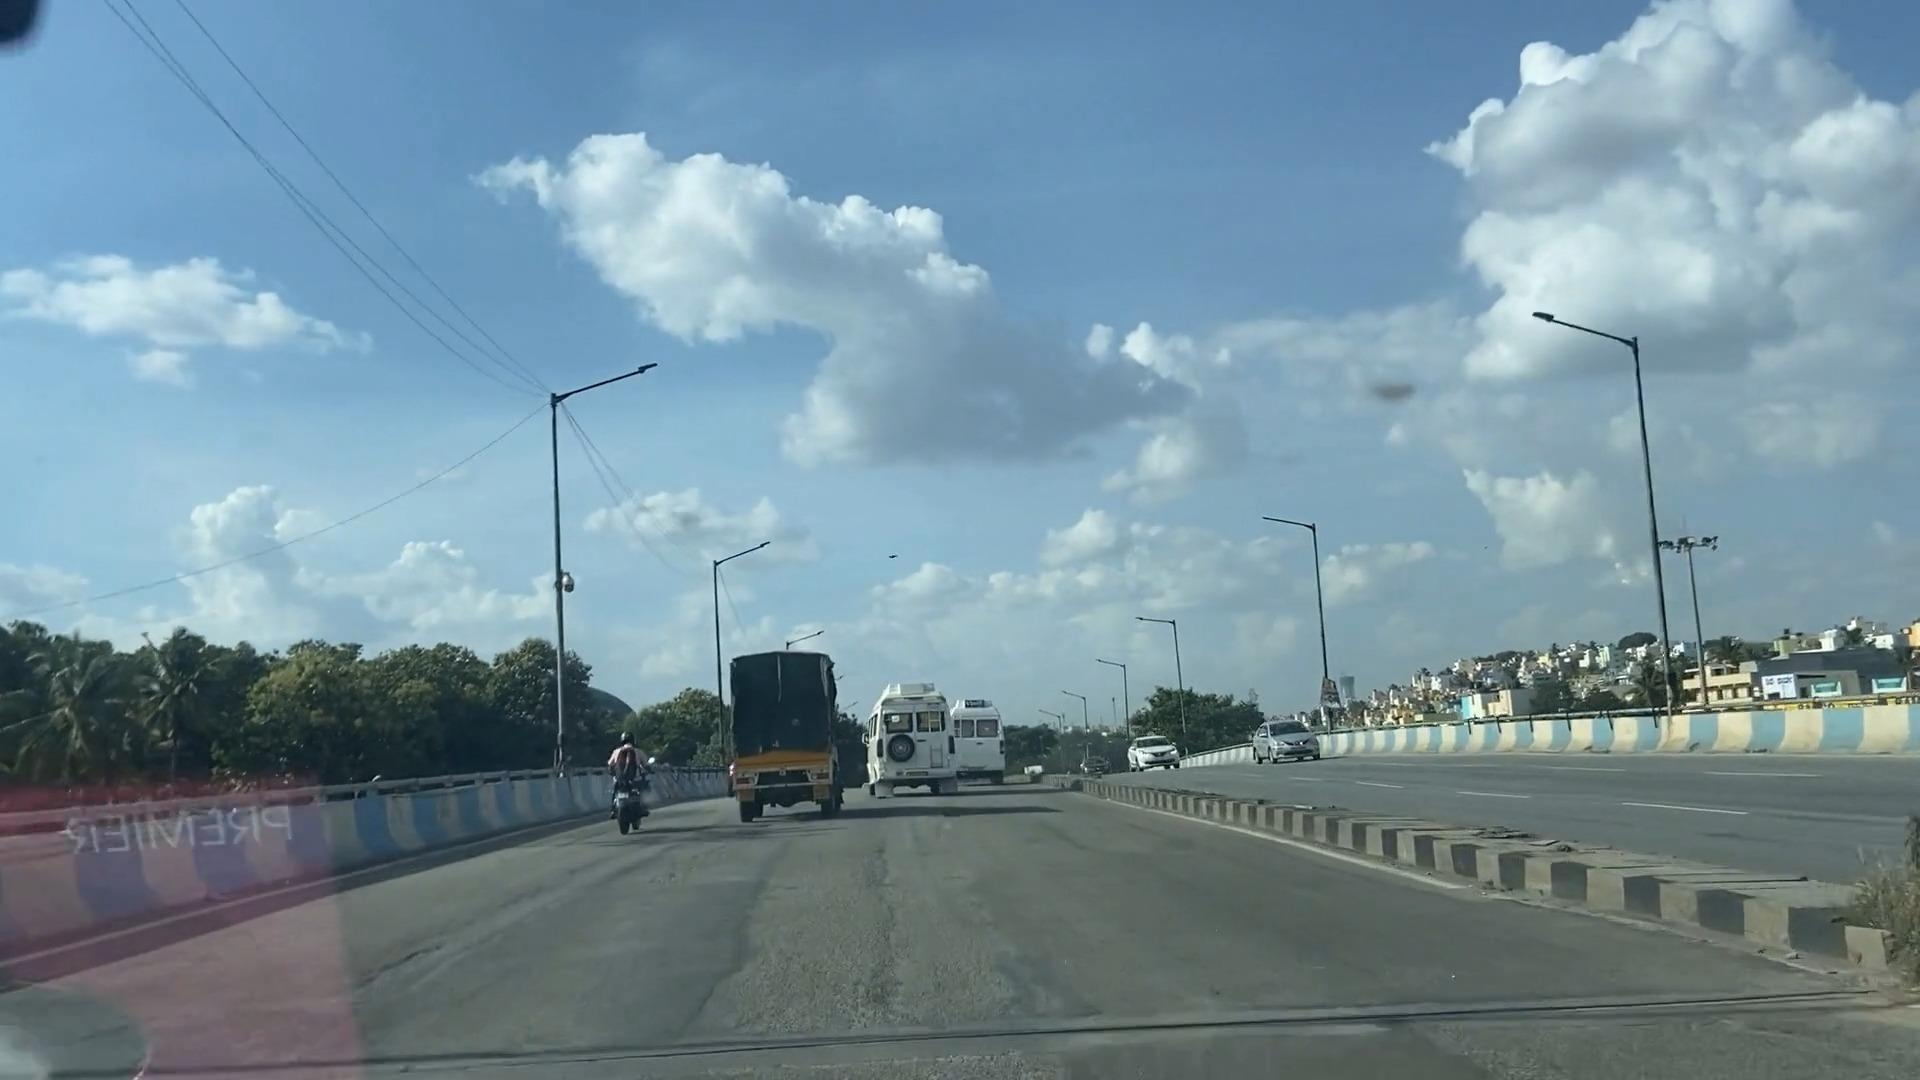HMV: (716, 641, 844, 828), (855, 673, 980, 803)
LMV: (600, 716, 649, 849)
RoadDamages: (641, 936, 1241, 1077), (316, 914, 506, 1036)
